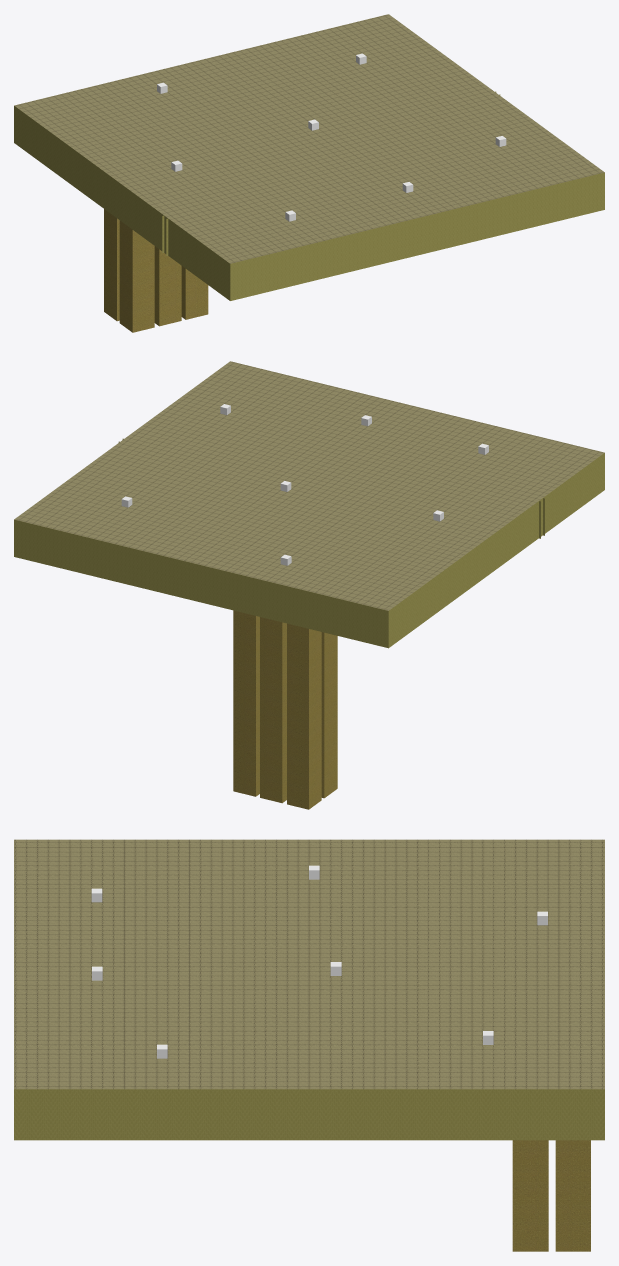
The model's file is map.obj.
The picture shows the model from 3 angles, top to bottom: view 1: azimuth 30°, elevation 25°; view 2: azimuth 150°, elevation 25°; view 3: azimuth 270°, elevation 25°; orthographic projection. The views are drawn at different scales.
Parts seen in each view (by area): view 1: ceiling, wall, floor, lights; view 2: ceiling, wall, floor, lights; view 3: ceiling, wall, floor, lights.
Part boxes in pixels (bbox=[...]): ceiling: bbox=[14, 14, 604, 263]; wall: bbox=[14, 91, 604, 300]; floor: bbox=[104, 209, 208, 332]; lights: bbox=[157, 53, 506, 221]; ceiling: bbox=[14, 361, 604, 610]; wall: bbox=[14, 438, 604, 648]; floor: bbox=[233, 610, 337, 809]; lights: bbox=[121, 404, 488, 565]; ceiling: bbox=[14, 839, 604, 1089]; wall: bbox=[14, 1089, 604, 1140]; floor: bbox=[512, 1140, 590, 1251]; lights: bbox=[91, 865, 547, 1058].
Bounding box in the file's own units: 42.4 × 24.65 × 42.
4 materials, 3 textured.
